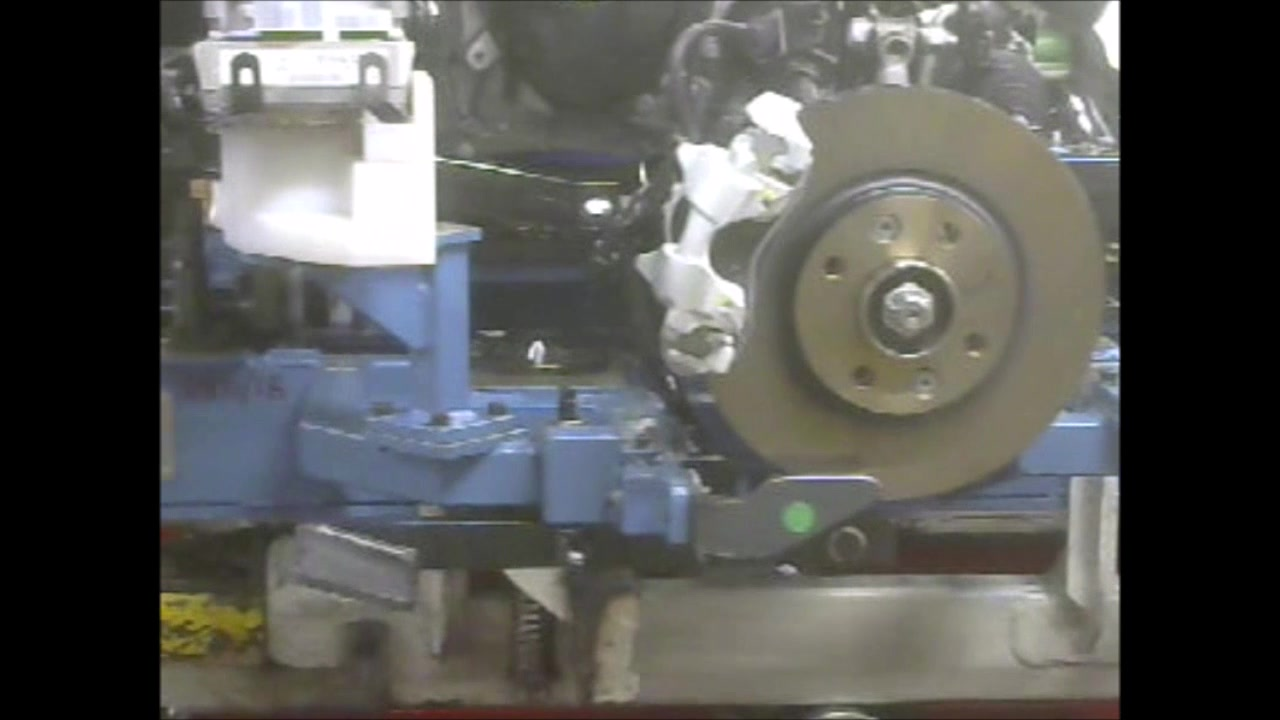DD2: (809, 84, 1110, 506)
P2: (630, 89, 818, 379)
